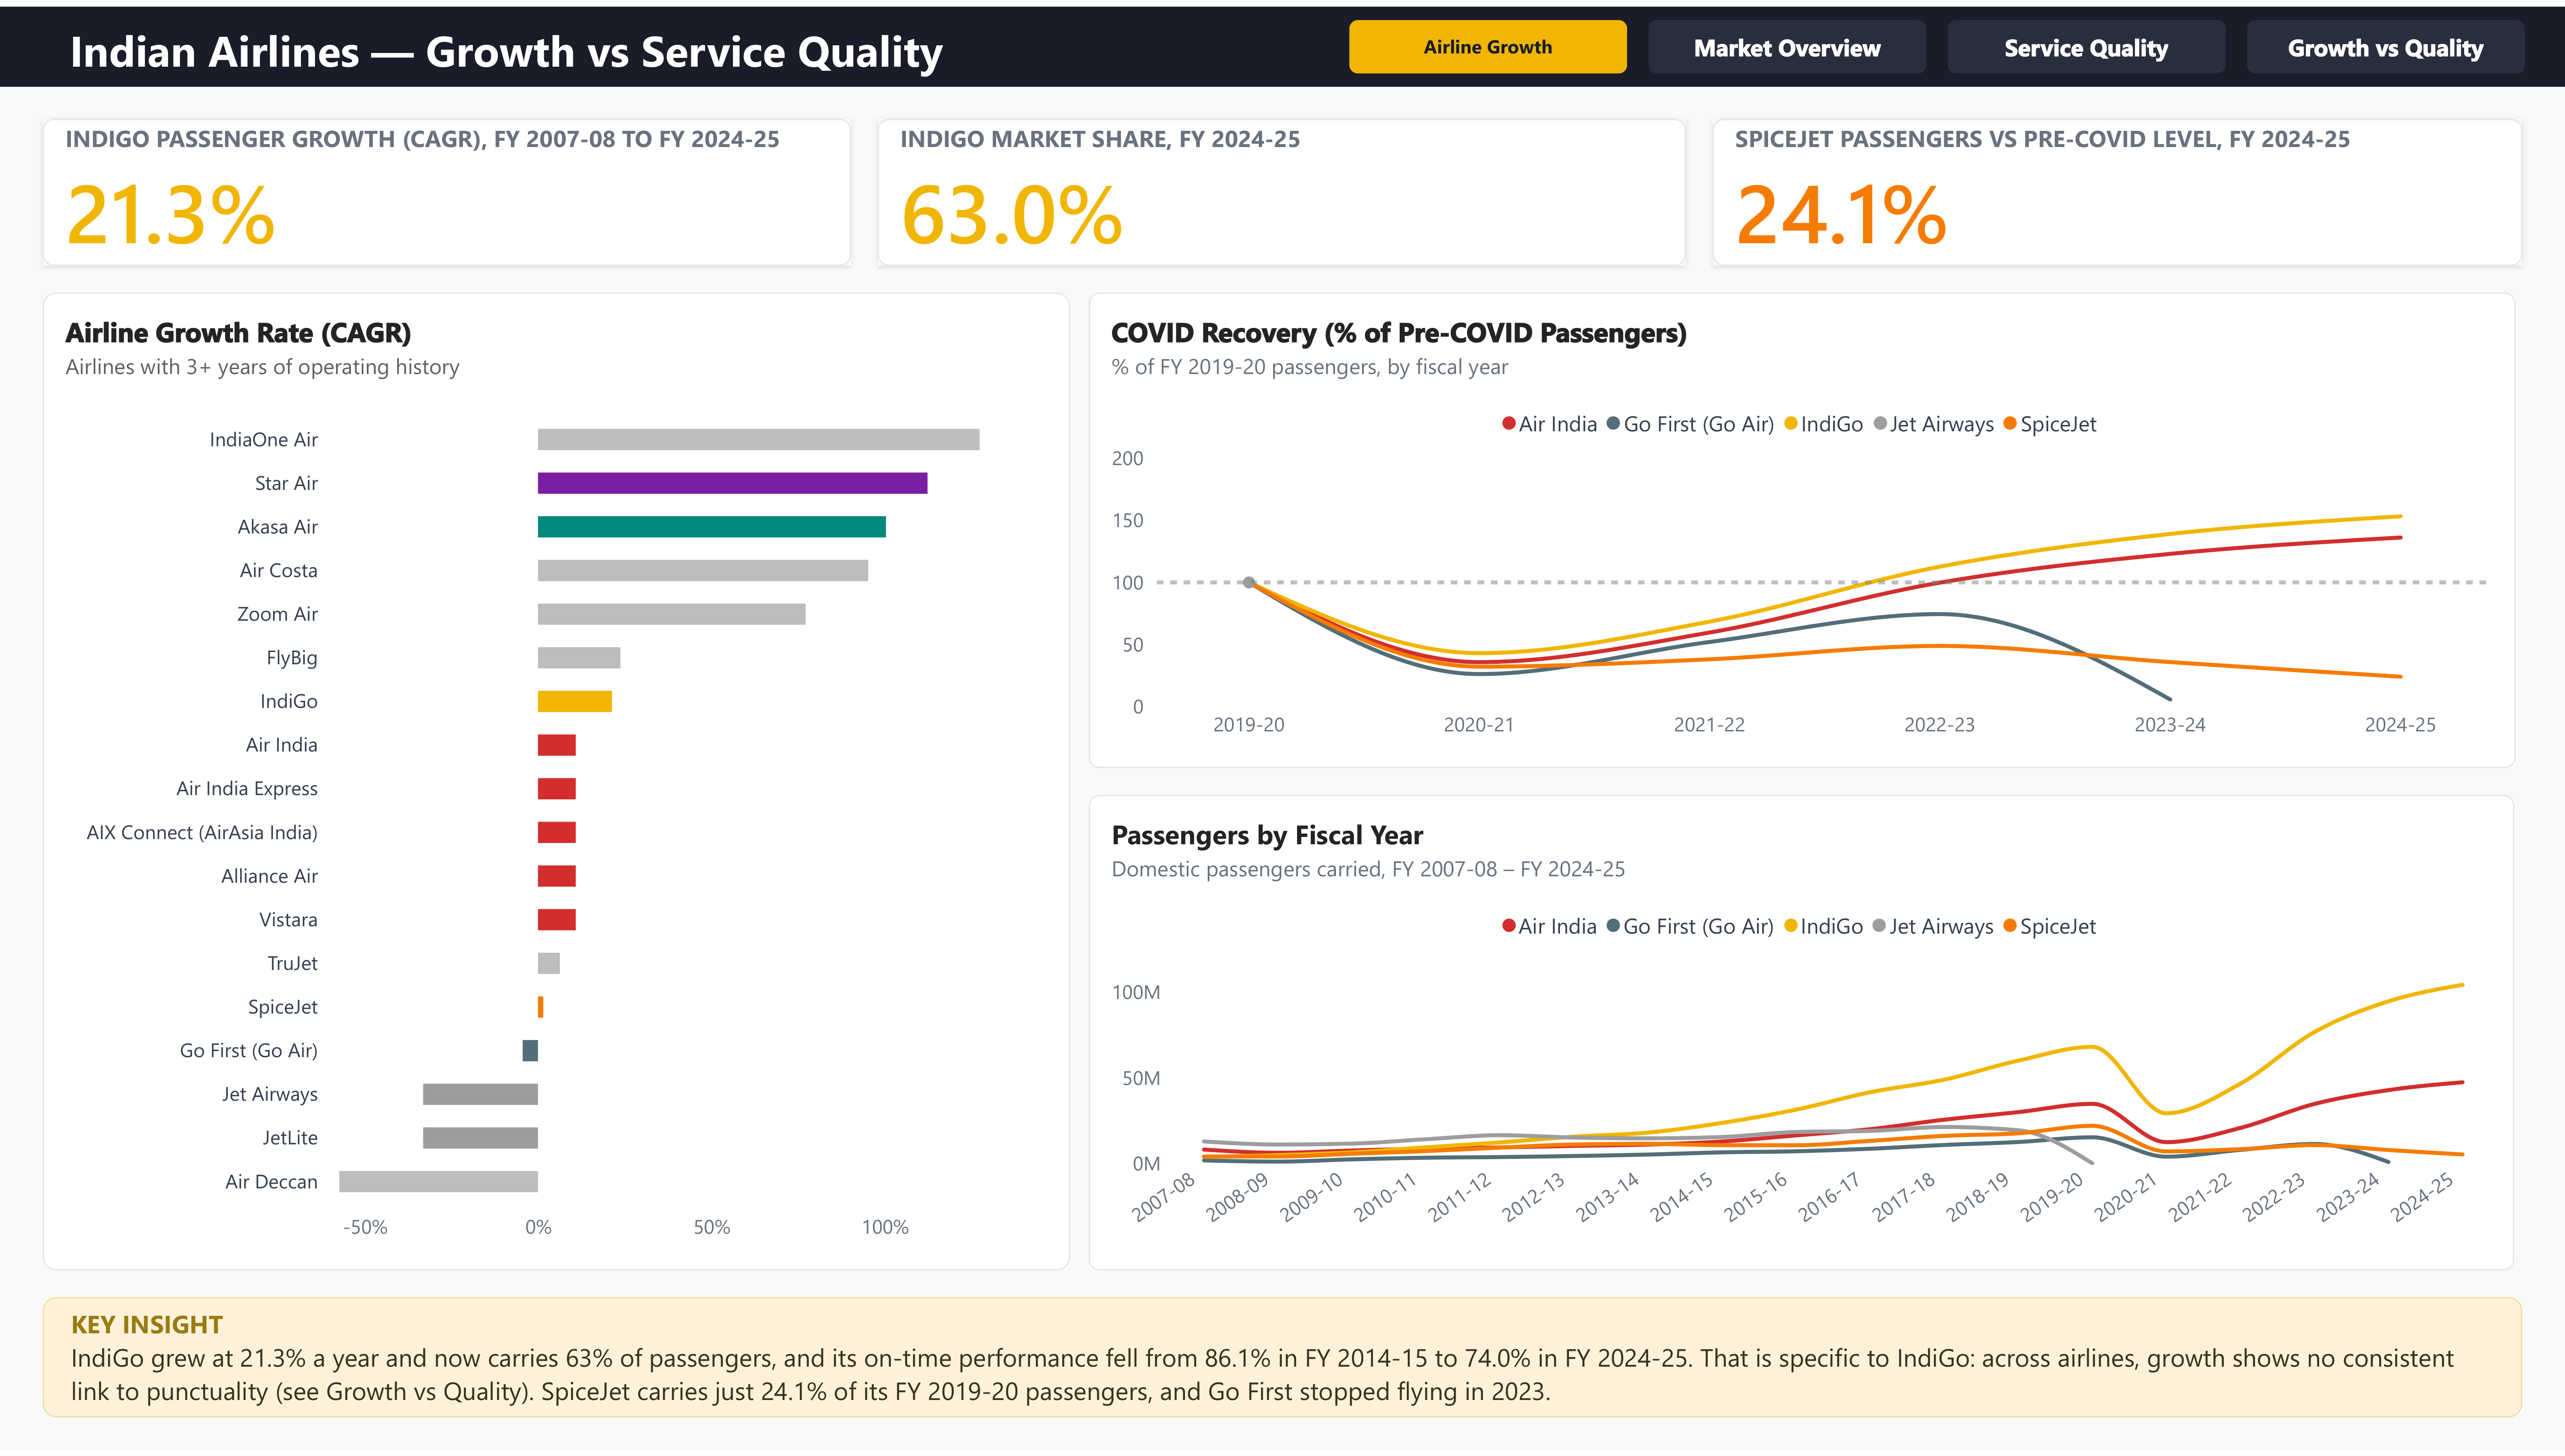

Layout of this report page (visuals, bound fields, positions):
{"tool":"powerbi","page":{"name":"Airline Growth","canvas":[1920,1080],"ordinal":0},"visuals":[{"type":"shape","box":[0,0,1920,60],"z":0},{"type":"clusteredBarChart","title":"Airline Growth Rate (CAGR)","fields":{"Category":["public dim_airline.airline_name"],"Y":["public v_airline_year.CAGR Passengers"]},"box":[32,214,769,732],"z":1000},{"type":"lineChart","title":"Passengers by Fiscal Year","fields":{"Category":["public v_airline_year.fiscal_year"],"Series":["public dim_airline.airline_name"],"Y":["Sum(public v_airline_year.passengers)"]},"box":[815.3,590,1067.5,356],"z":2000},{"type":"lineChart","title":"COVID Recovery (% of Pre-COVID Passengers)","fields":{"Category":["public v_covid_recovery.fiscal_year"],"Series":["public dim_airline.airline_name"],"Y":["Sum(public v_covid_recovery.pct_of_pre_covid_baseline)"]},"box":[815.3,214,1068,356],"z":3000},{"type":"textbox","box":[32,0,1000,60],"z":4000},{"type":"pageNavigator","box":[1010,10,880,40],"z":5000},{"type":"textbox","box":[32,966,1856,90],"z":13000},{"type":"cardVisual","fields":{"Data":["public v_airline_year.IndiGo CAGR"]},"box":[32,84,605,110],"z":13001},{"type":"cardVisual","fields":{"Data":["public v_airline_year.IndiGo Share 2024-25 Pct"]},"box":[657,84,605,110],"z":13002},{"type":"cardVisual","fields":{"Data":["public v_covid_recovery.SpiceJet Recovery 2024-25"]},"box":[1282,84,606,110],"z":13003}]}

Visuals, with their boxes in screenshot pixels (x1, y1, x2, y2), scaled from the page's 1920x1080 canvas onto the 2565x1456 screenshot:
shape: (0, 0, 2565, 81)
"Airline Growth Rate (CAGR)" clusteredBarChart: (43, 289, 1070, 1275)
"Passengers by Fiscal Year" lineChart: (1089, 796, 2515, 1275)
"COVID Recovery (% of Pre-COVID Passengers)" lineChart: (1089, 289, 2516, 769)
textbox: (43, 0, 1379, 81)
pageNavigator: (1349, 14, 2525, 68)
textbox: (43, 1302, 2522, 1424)
cardVisual - public v_airline_year.IndiGo CAGR: (43, 113, 851, 262)
cardVisual - public v_airline_year.IndiGo Share 2024-25 Pct: (878, 113, 1686, 262)
cardVisual - public v_covid_recovery.SpiceJet Recovery 2024-25: (1713, 113, 2522, 262)
